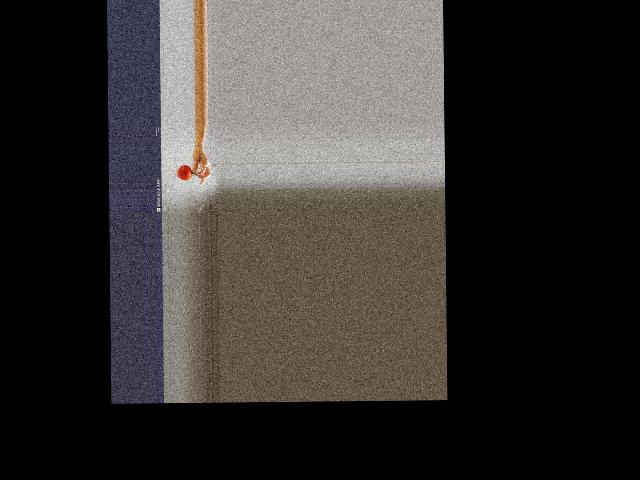tomato: (176, 164, 191, 179)
